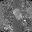people: (13, 8, 23, 22)
